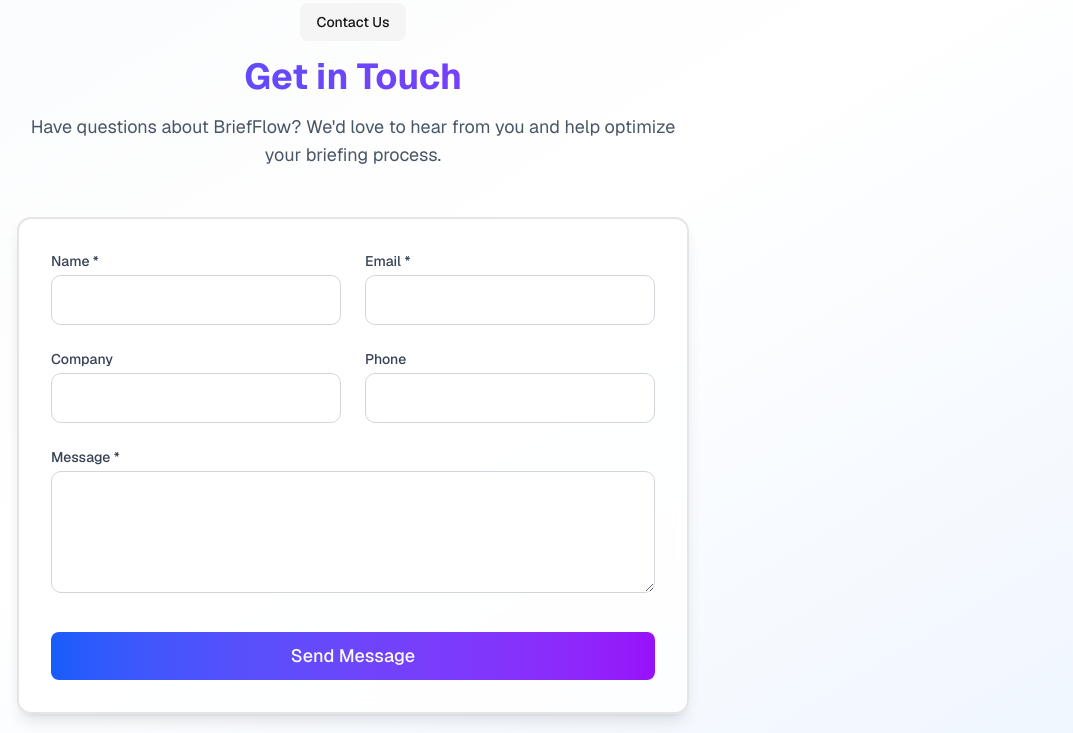
Test: ContactSection › Form Validation › clears validation errors when user starts typing
Trigger validation error
Click the button "Send Message". click: (353, 656)
box: [51,632,655,680]
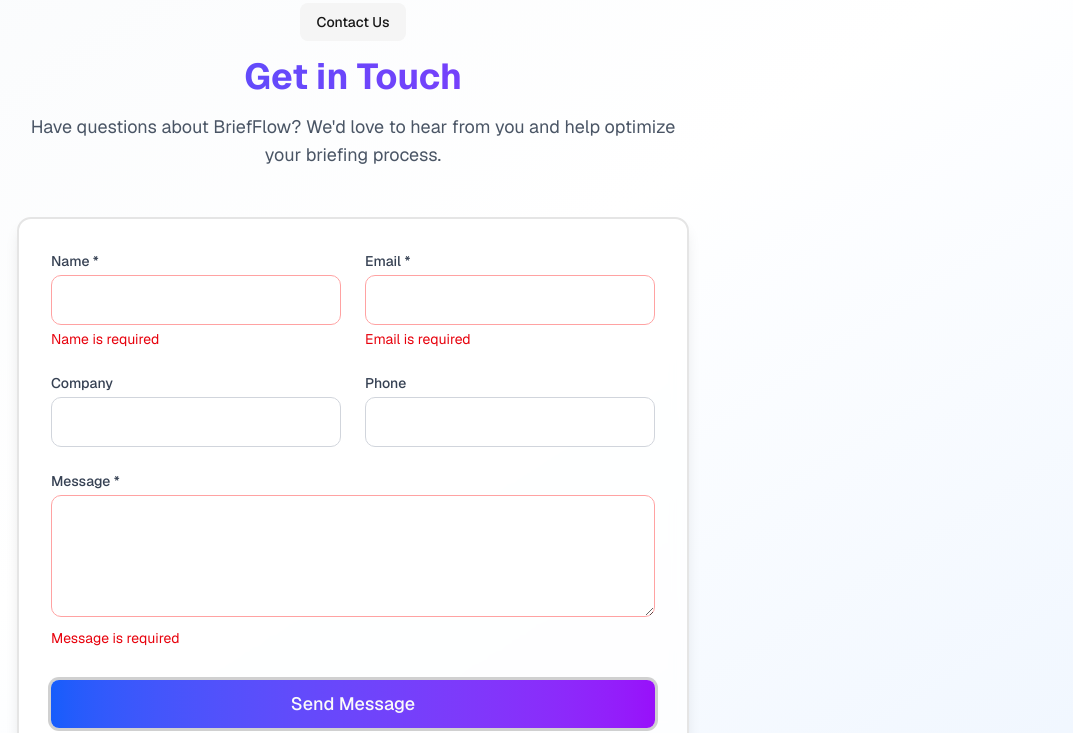
expect the text "Name is required" is shown: met, box [51,330,159,348]
Start typing to clear error
Type "John" into the field labelled "Name *". click: (196, 300)
box: [51,275,341,325]
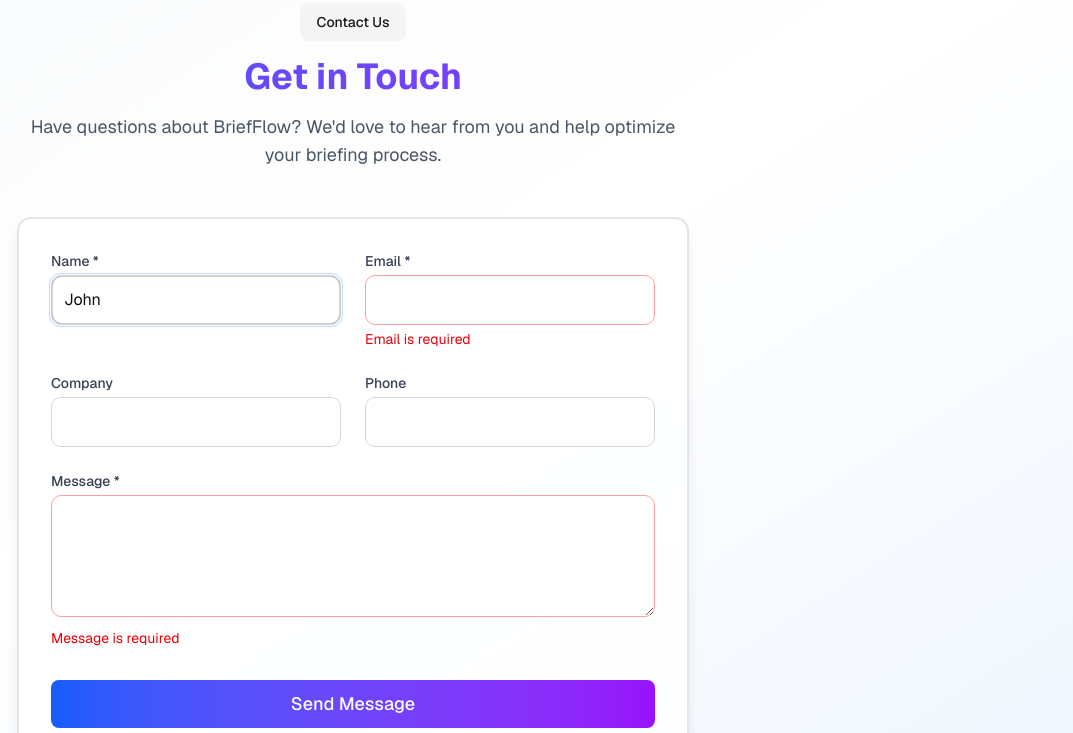
expect the text "Name is required" is gone: met
